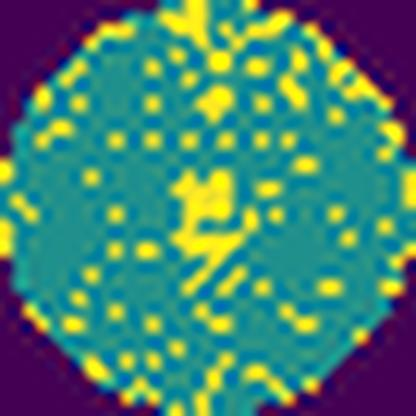Center: (174, 168, 258, 299)
